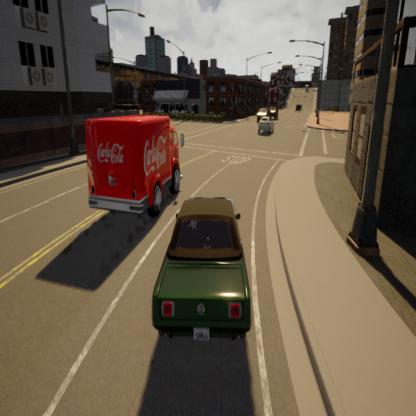Cars: (149, 189, 256, 360), (75, 104, 184, 232), (258, 114, 274, 138), (254, 106, 270, 122), (267, 103, 280, 119)
